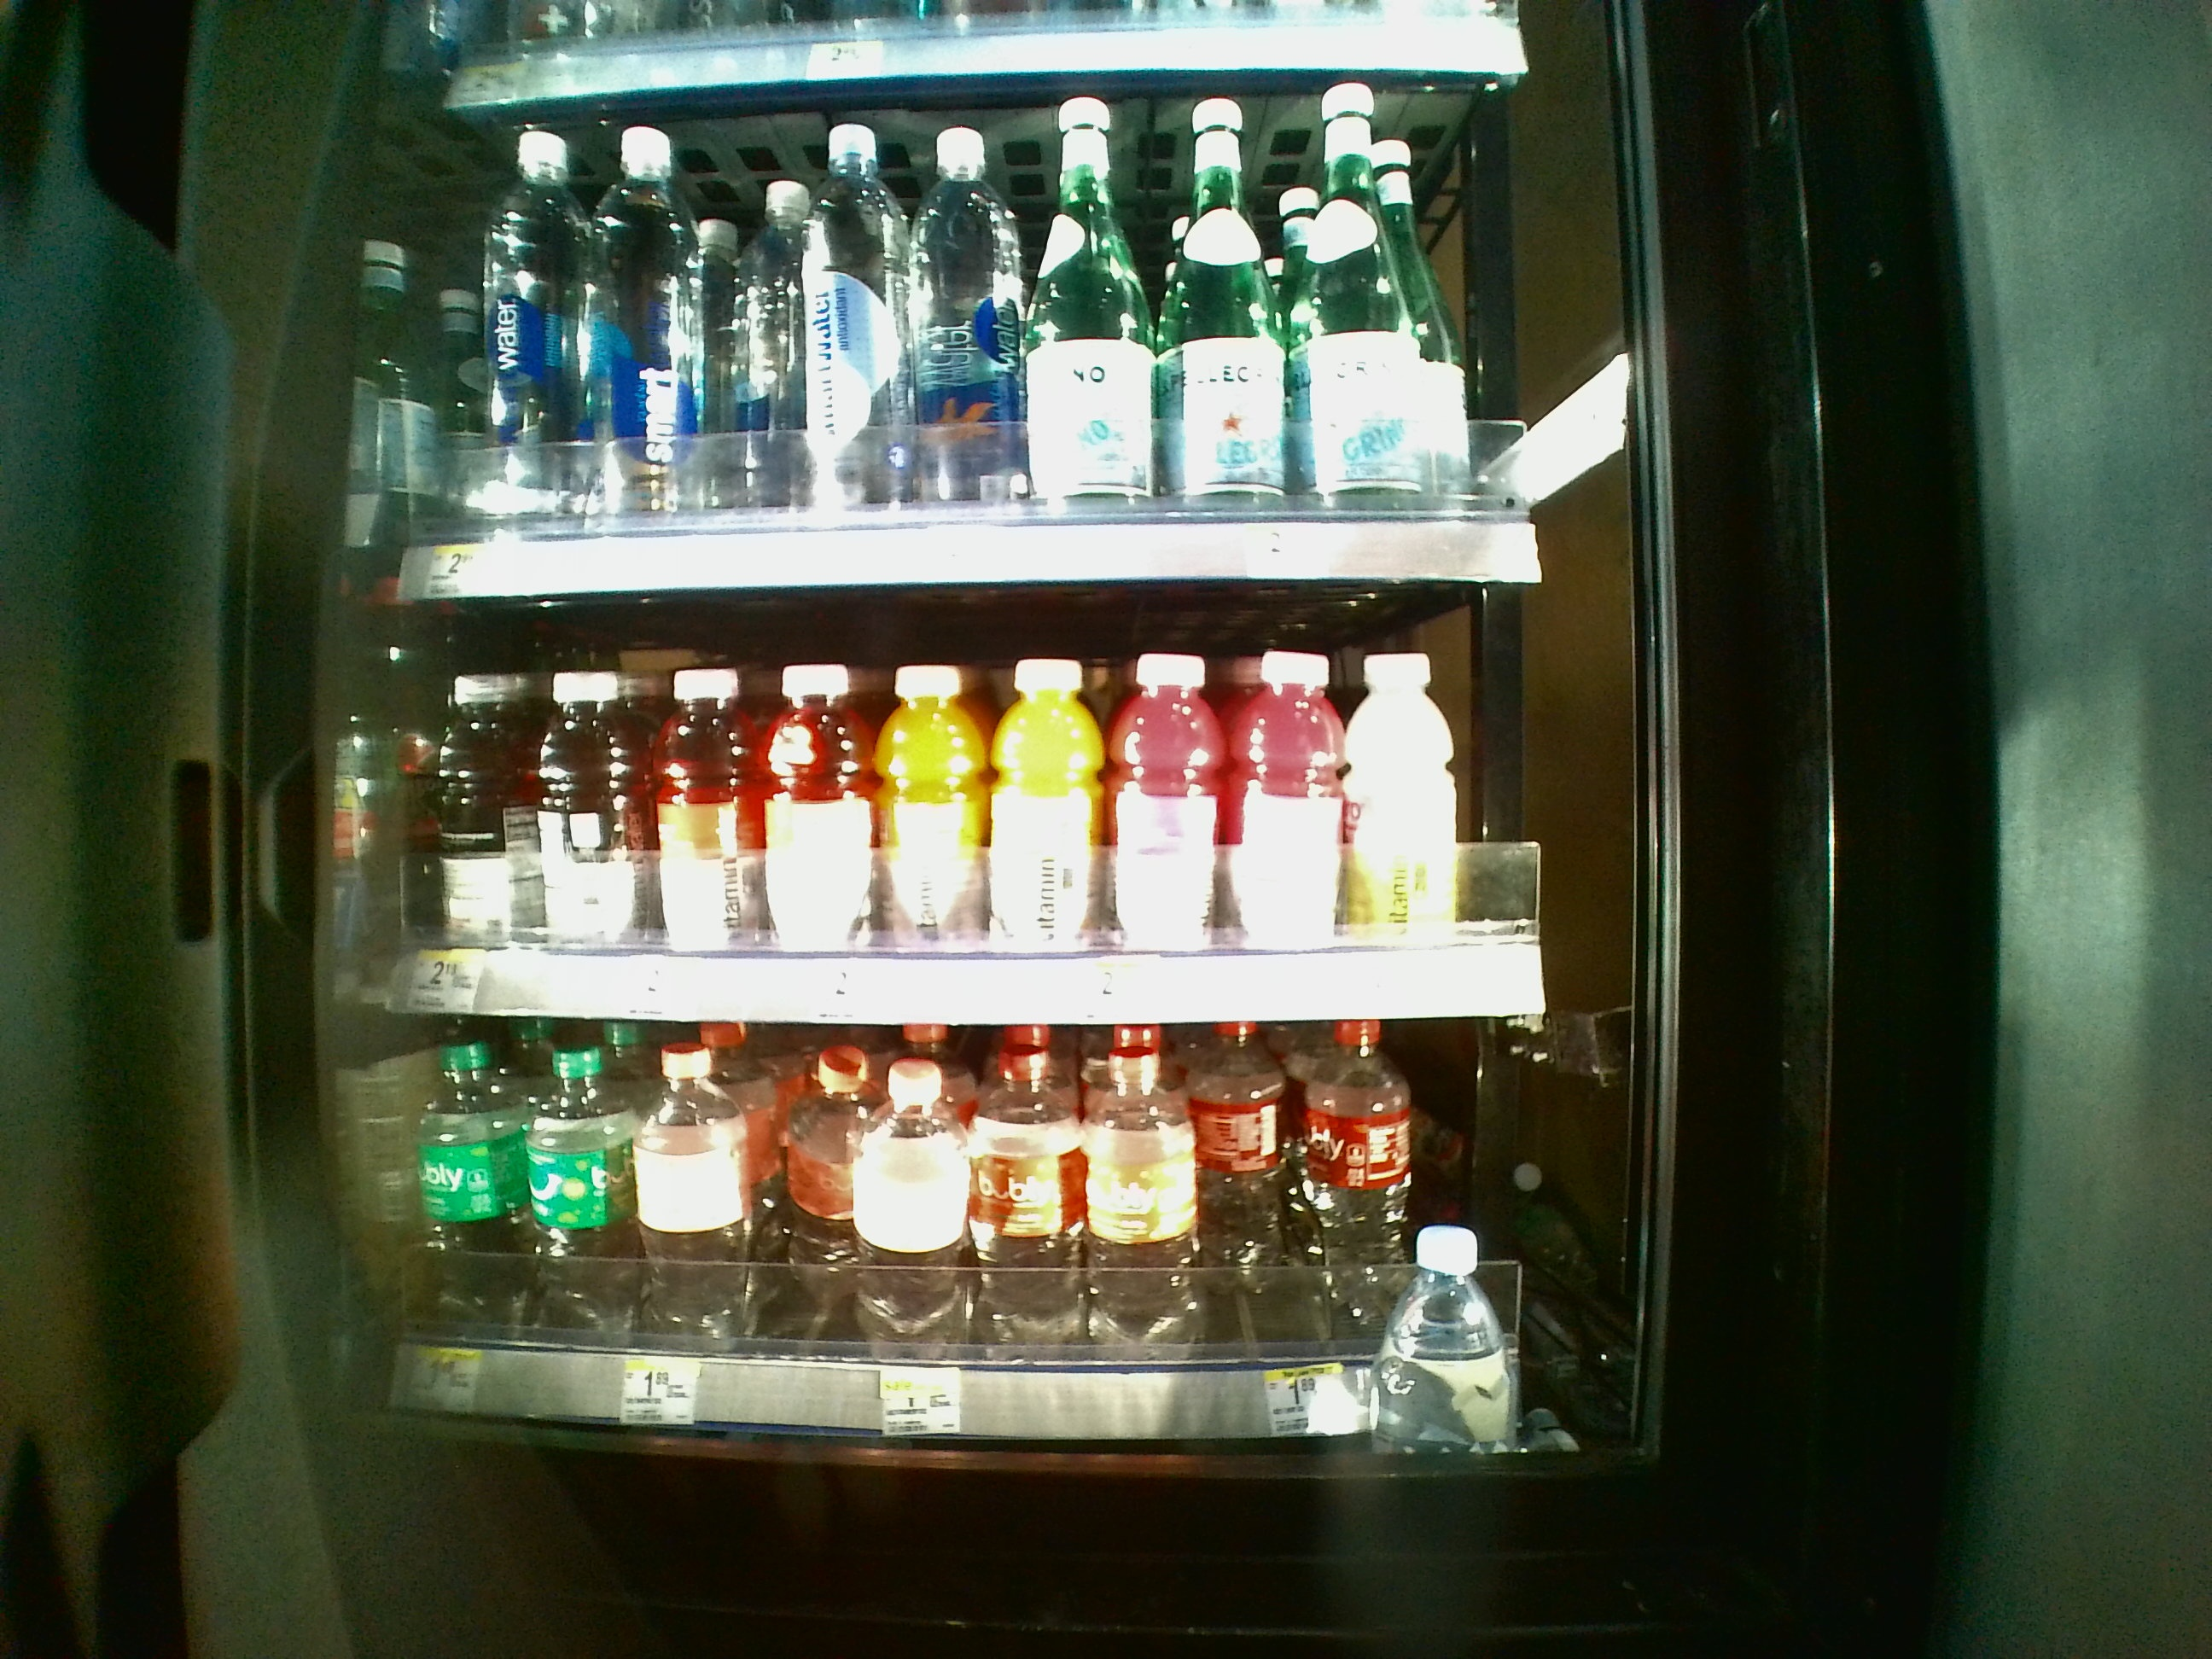shelf: (381, 108, 1555, 591), (369, 1018, 1571, 1453), (380, 591, 1566, 1019)
